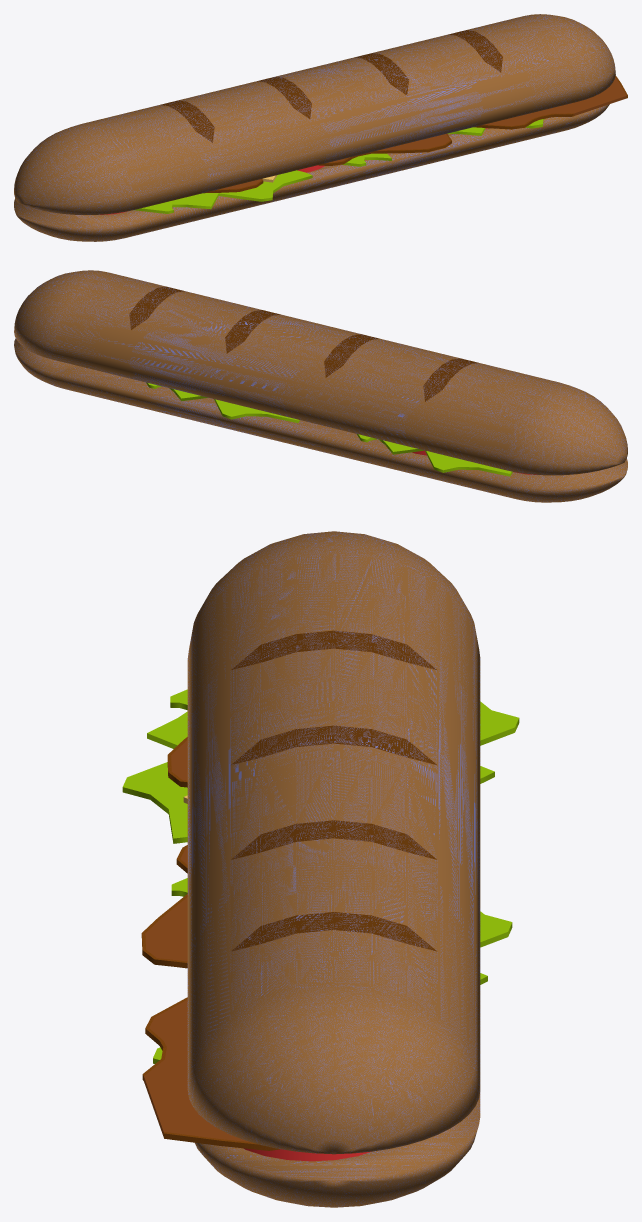
Rendered from subsandwich.dae.
The picture shows the model from 3 angles, top to bottom: view 1: azimuth 30°, elevation 25°; view 2: azimuth 150°, elevation 25°; view 3: azimuth 270°, elevation 25°; orthographic projection. The views are drawn at different scales.
Visible parts, largest first — view 1: SketchUp (×12); view 2: SketchUp (×8); view 3: SketchUp (×12).
Boxes of the visible parts, <box> form: SketchUp (×12): <box>14,14,627,241</box>; SketchUp (×8): <box>14,270,627,502</box>; SketchUp (×12): <box>122,531,519,1207</box>.
Bounding box in the file's own units: 107 × 31.17 × 17.08.
